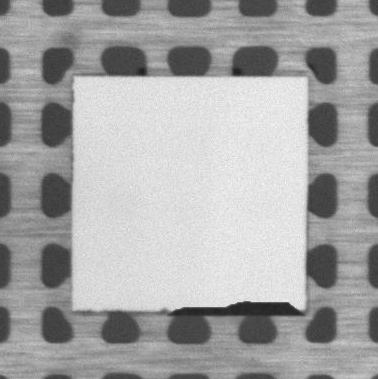DIE_BROKEN: (165, 299, 305, 316)
